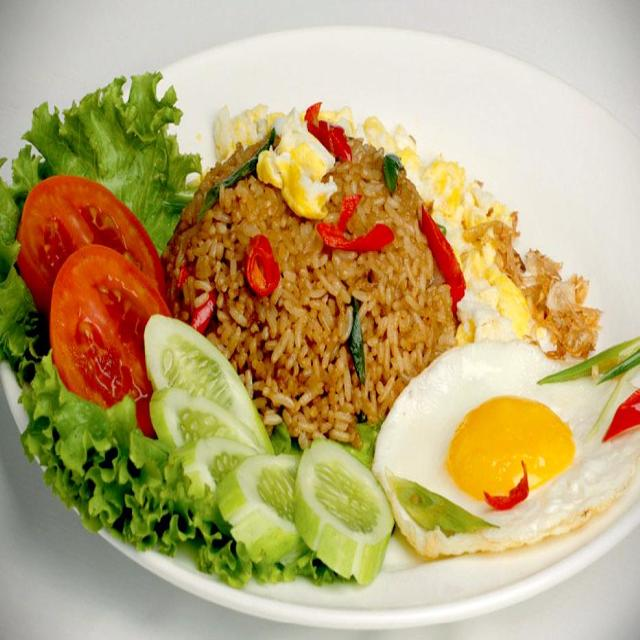Nasi Goreng: (154, 124, 473, 445)
